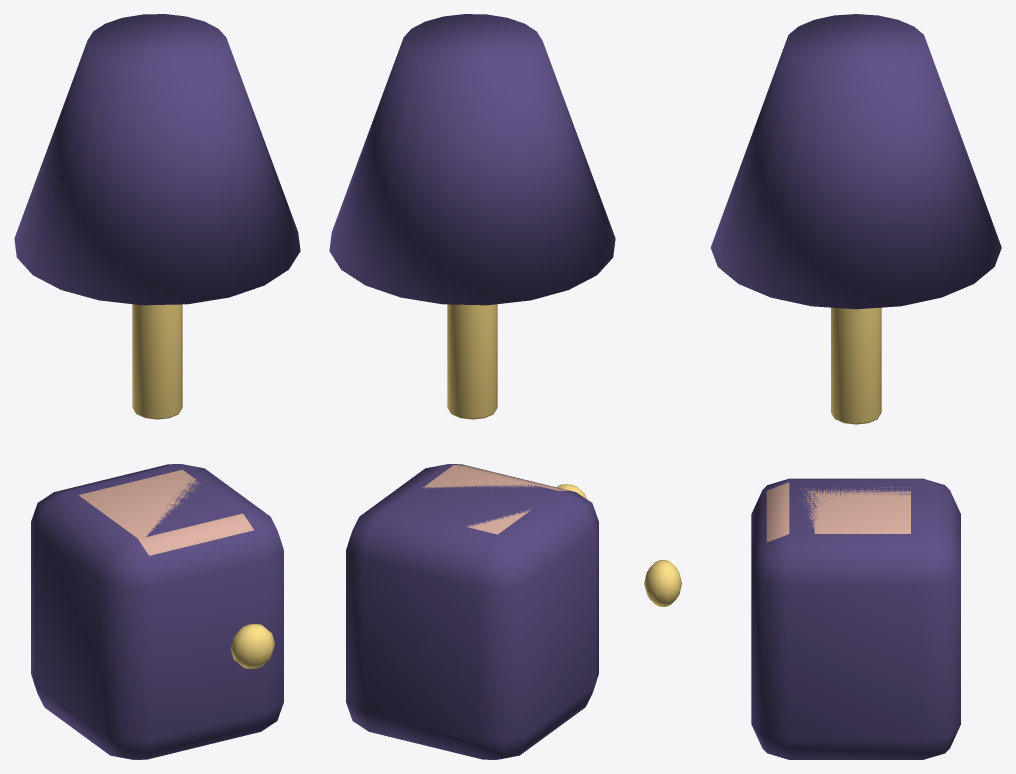
Rendered from royal_nightstand.glb.
3 renders of one model, left to right at view 1: azimuth 30°, elevation 25°; view 2: azimuth 150°, elevation 25°; view 3: azimuth 270°, elevation 25°, orthographic.
Parts seen in each view (by area): view 1: LampShadeInk, CabinetInk, Cabinet, LampStem, DrawerPull; view 2: CabinetInk, LampShadeInk, LampStem, Cabinet; view 3: LampShadeInk, CabinetInk, LampStem, Cabinet, DrawerPull.
Part boxes in pixels (x1,y1,x2,y2): LampShadeInk: (14,14,300,305); CabinetInk: (31,464,283,759); Cabinet: (78,469,253,555); LampStem: (132,304,182,419); DrawerPull: (230,623,274,668); CabinetInk: (346,464,598,759); LampShadeInk: (329,14,615,305); LampStem: (447,304,497,419); Cabinet: (421,465,568,534); LampShadeInk: (710,14,1001,309); CabinetInk: (751,478,960,759); LampStem: (831,307,881,424); Cabinet: (766,482,910,542); DrawerPull: (644,560,681,606).
Bounding box in the file's own units: 1.84 × 4.78 × 2.26.
